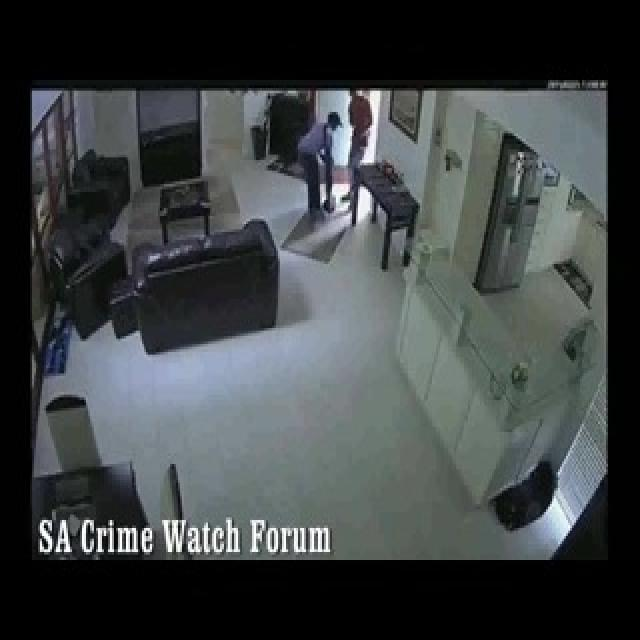thief: (301, 105, 397, 219)
